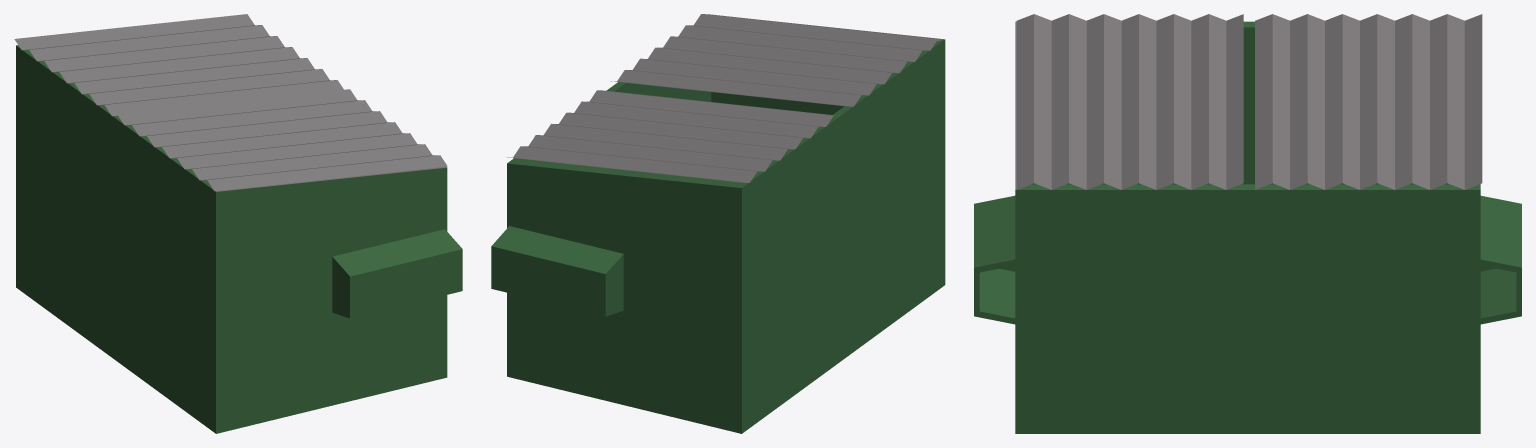
Rendered from dumpster.fbx.
The picture shows the model from 3 angles, left to right: view 1: azimuth 30°, elevation 25°; view 2: azimuth 150°, elevation 25°; view 3: azimuth 270°, elevation 25°; orthographic projection. The views are drawn at different scales.
Visible parts, largest first — view 1: Plane; view 2: Plane; view 3: Plane.
Boxes of the visible parts, x1,y1,x2,y2 form: Plane: (14, 14, 462, 433); Plane: (491, 14, 945, 433); Plane: (974, 14, 1521, 433).
Bounding box in the file's own units: 252 × 256 × 441.
